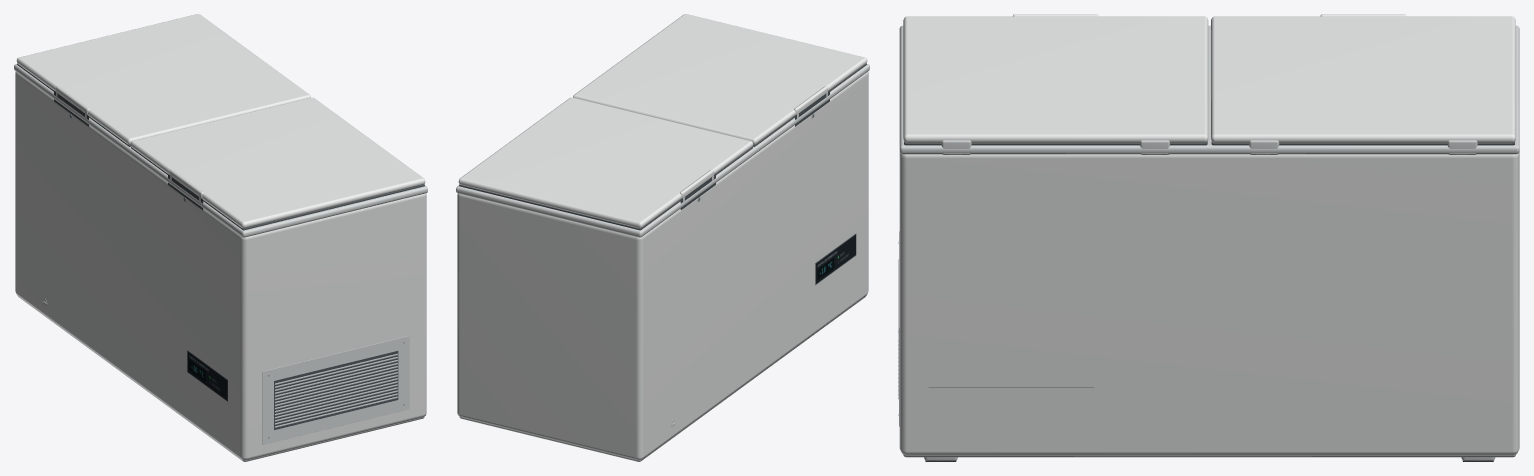
The model's file is freezer_horizontal_realista.glb.
3 views of the same model, side by side, from view 1: azimuth 30°, elevation 25°; view 2: azimuth 150°, elevation 25°; view 3: azimuth 270°, elevation 25° (orthographic). The views are drawn at different scales.
Visible parts, largest first — view 1: Corpo esmaltado, Tampa independente, Tampa independente.001, Painel de manutencao, Rebaixo da grelha, Perfil superior, Indicador de temperatura, Rodape da base, Borracha de vedacao; view 2: Corpo esmaltado, Tampa independente.001, Tampa independente, Perfil superior, Indicador de temperatura, Rodape da base, Borracha de vedacao.001; view 3: Corpo esmaltado, Tampa independente, Tampa independente.001, Perfil superior, Rodape da base, Borracha de vedacao, Borracha de vedacao.001.
Boxes of the visible parts, left/top/right/bottom form: Corpo esmaltado: left=15, top=71, right=426, bottom=460; Tampa independente: left=131, top=97, right=425, bottom=228; Tampa independente.001: left=16, top=14, right=310, bottom=144; Painel de manutencao: left=262, top=335, right=409, bottom=444; Rebaixo da grelha: left=274, top=351, right=398, bottom=429; Perfil superior: left=14, top=64, right=427, bottom=237; Indicador de temperatura: left=187, top=352, right=227, bottom=400; Rodape da base: left=18, top=296, right=424, bottom=461; Borracha de vedacao: left=131, top=147, right=424, bottom=230; Corpo esmaltado: left=457, top=71, right=868, bottom=460; Tampa independente.001: left=458, top=97, right=752, bottom=228; Tampa independente: left=573, top=14, right=867, bottom=144; Perfil superior: left=456, top=64, right=869, bottom=237; Indicador de temperatura: left=816, top=235, right=855, bottom=283; Rodape da base: left=459, top=296, right=865, bottom=461; Borracha de vedacao.001: left=459, top=147, right=752, bottom=230; Corpo esmaltado: left=899, top=152, right=1519, bottom=455; Tampa independente: left=903, top=16, right=1208, bottom=143; Tampa independente.001: left=1211, top=16, right=1515, bottom=143; Perfil superior: left=899, top=25, right=1519, bottom=154; Rodape da base: left=903, top=454, right=1515, bottom=457; Borracha de vedacao: left=904, top=141, right=1207, bottom=145; Borracha de vedacao.001: left=1211, top=141, right=1514, bottom=145.
Size of the model in its own units: 0.7034 by 0.8935 by 1.5.
Materials: 8 (1 with a texture image).
